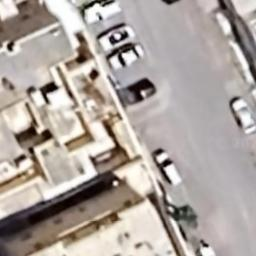pickup: (125, 76, 157, 104)
sedan: (227, 97, 256, 136), (108, 44, 147, 70), (100, 24, 135, 48)
van: (157, 150, 180, 186)
